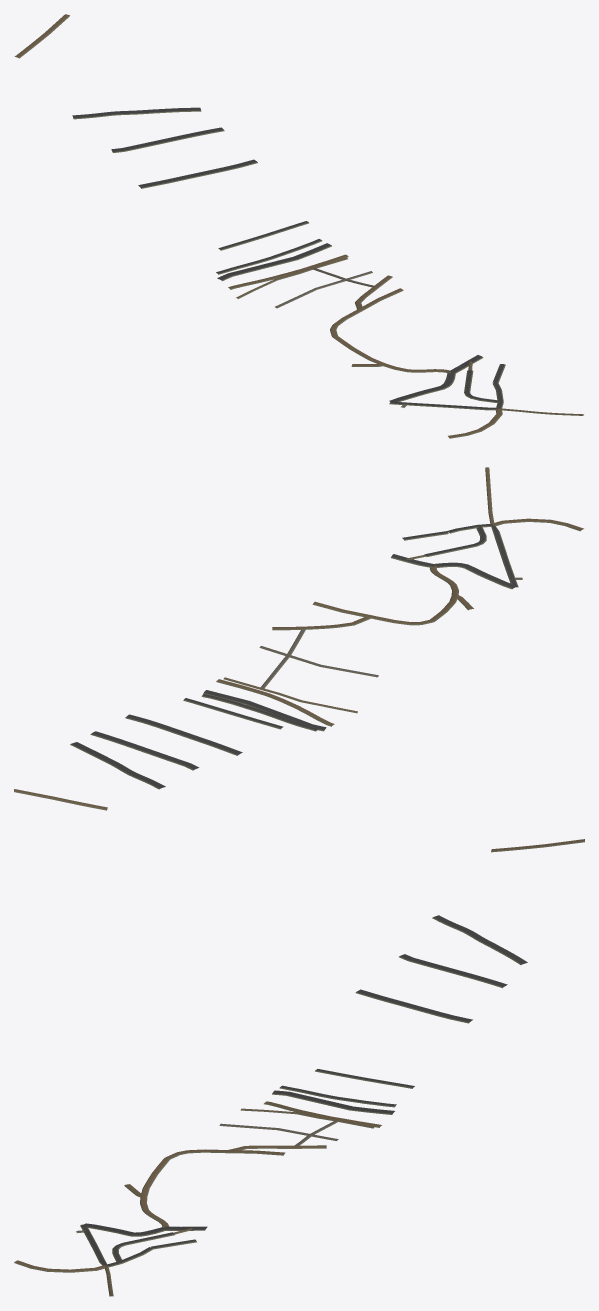
The picture shows the model from 3 angles, top to bottom: view 1: azimuth 30°, elevation 25°; view 2: azimuth 150°, elevation 25°; view 3: azimuth 330°, elevation 25°; orthographic projection. The views are drawn at different scales.
Visible parts, largest first — view 1: roads; view 2: roads; view 3: roads.
Boxes of the visible parts, x1,y1,x2,y2 form: roads: (14, 14, 583, 438); roads: (14, 467, 583, 810); roads: (14, 839, 584, 1296).
Bounding box in the file's own units: 112 × 81.27 × 770.
